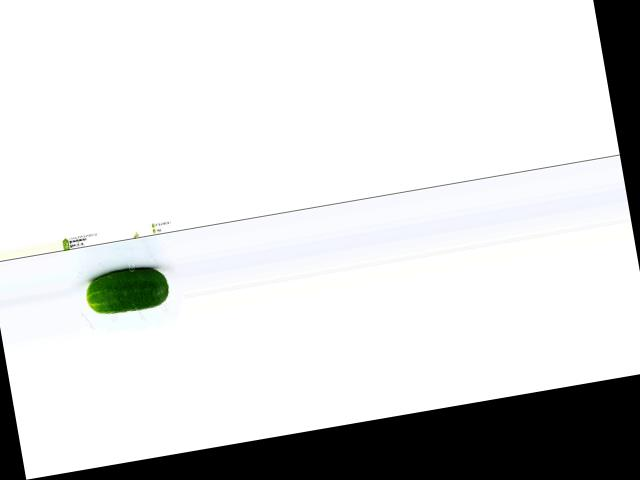cucumber: (83, 262, 171, 317)
